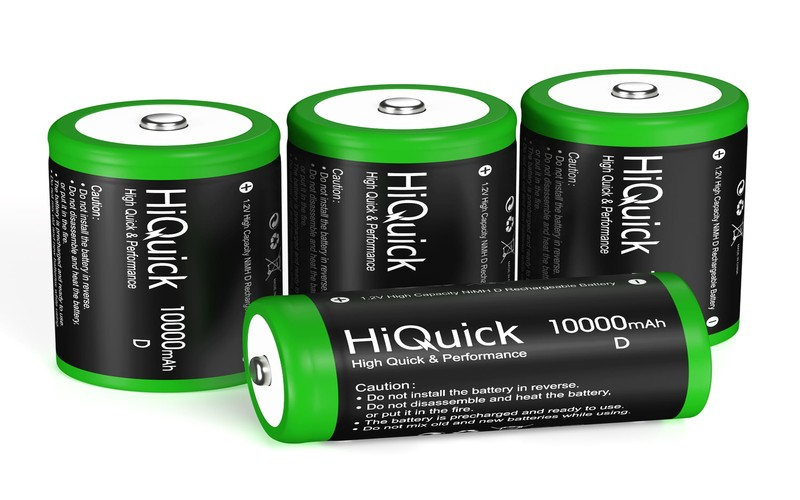Battery: (232, 259, 722, 460), (31, 77, 287, 406), (283, 67, 535, 369), (516, 54, 745, 369)
